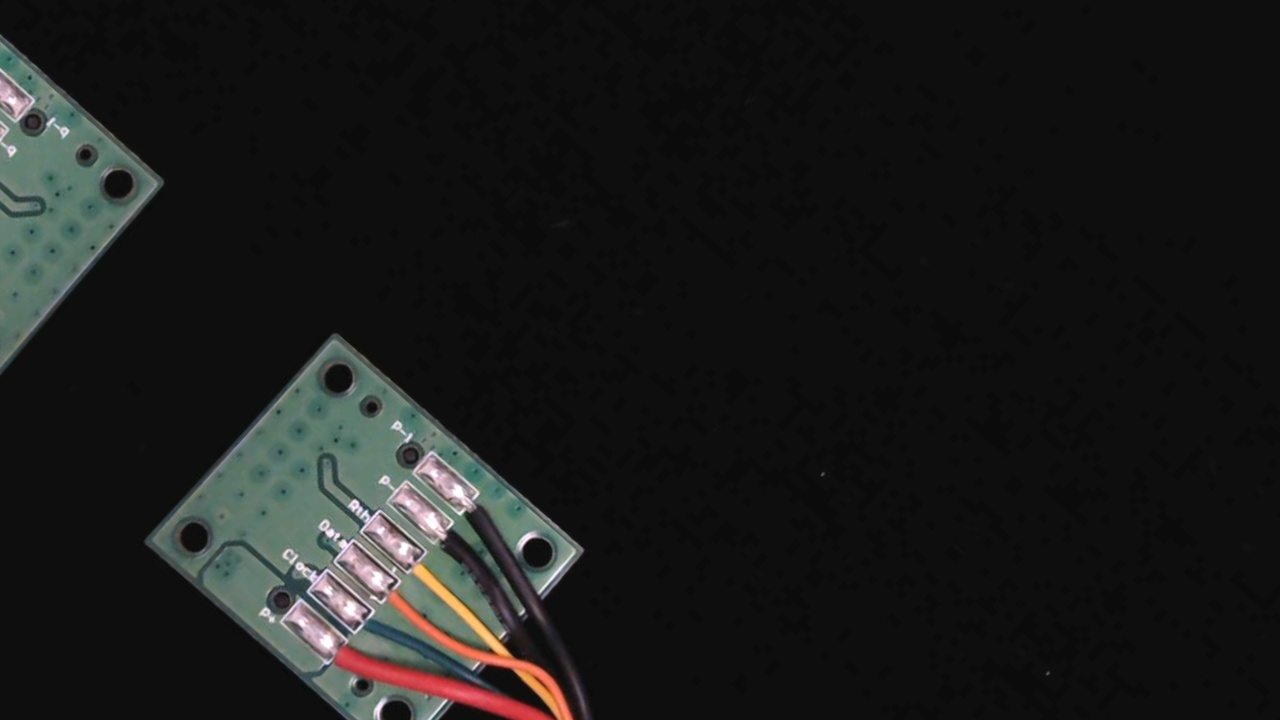Black: (422, 515, 487, 578)
Black1: (449, 484, 513, 546)
Green: (343, 599, 406, 660)
Orange: (370, 571, 434, 632)
Red: (316, 632, 382, 695)
Yellow: (395, 542, 464, 608)
